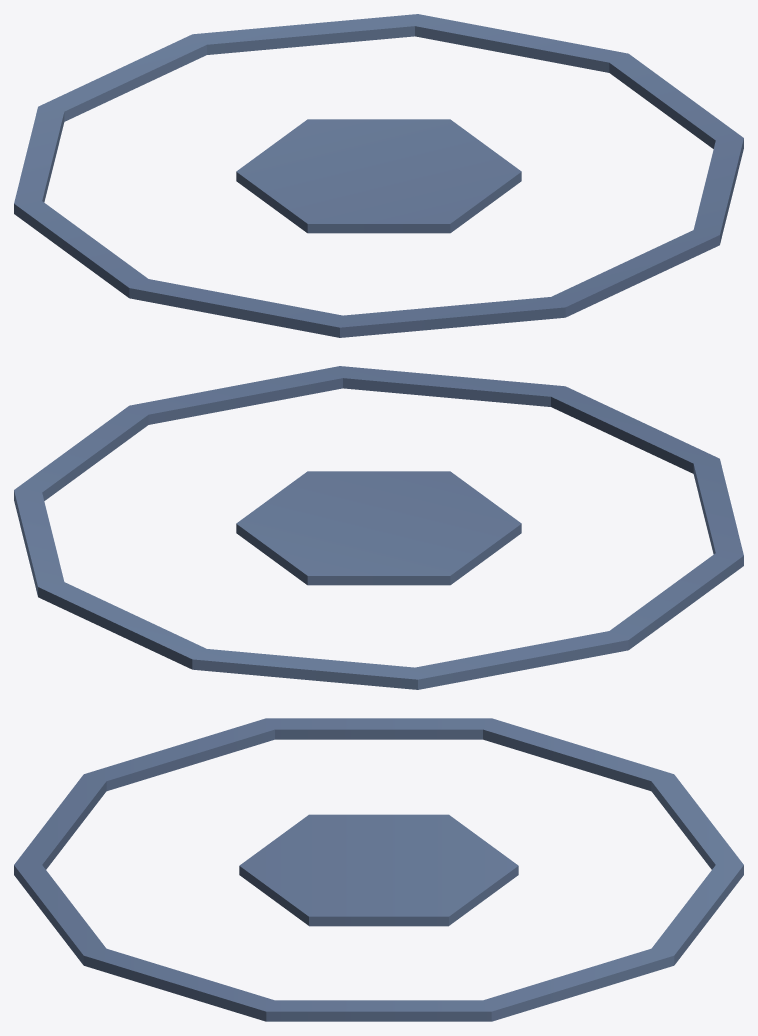
File: FloorStructure_Sanctuary.fbx
3 views of the same model, one above another, from view 1: azimuth 30°, elevation 25°; view 2: azimuth 150°, elevation 25°; view 3: azimuth 270°, elevation 25° (orthographic). The views are drawn at different scales.
Visible parts, largest first — view 1: CenterStructure; view 2: CenterStructure; view 3: CenterStructure.
Boxes of the visible parts, x1,y1,x2,y2 form: CenterStructure: (14, 14, 743, 337); CenterStructure: (14, 366, 743, 689); CenterStructure: (14, 718, 743, 1021).
Bounding box in the file's own units: 4583 × 73.53 × 4819.
1 material, 1 textured.
